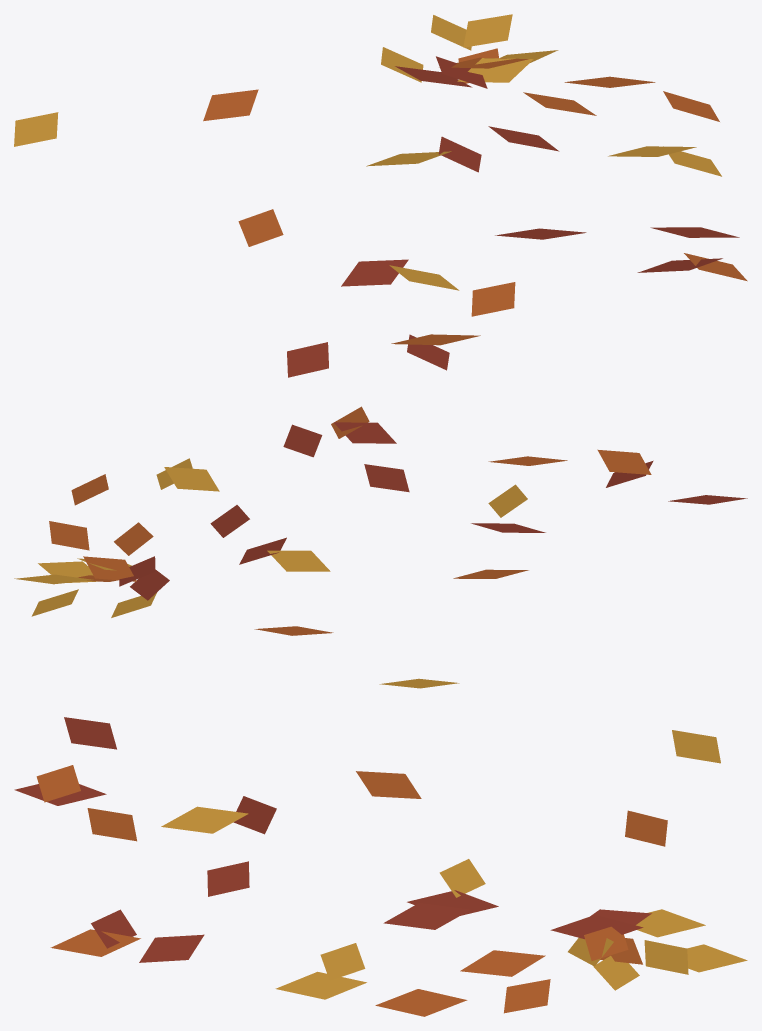
The model's file is nat-folhas.gltf.
The picture shows the model from 3 angles, top to bottom: view 1: azimuth 30°, elevation 25°; view 2: azimuth 150°, elevation 25°; view 3: azimuth 270°, elevation 25°; orthographic projection. The views are drawn at different scales.
Parts seen in each view (by area): view 1: nat-folhas; view 2: nat-folhas; view 3: nat-folhas.
Boxes of the visible parts, left/top/right/bottom form: nat-folhas: left=14, top=14, right=747, bottom=377; nat-folhas: left=14, top=406, right=747, bottom=688; nat-folhas: left=14, top=717, right=747, bottom=1016.
Size of the model in its own units: 0.8917 by 0.0317 by 0.9401.
